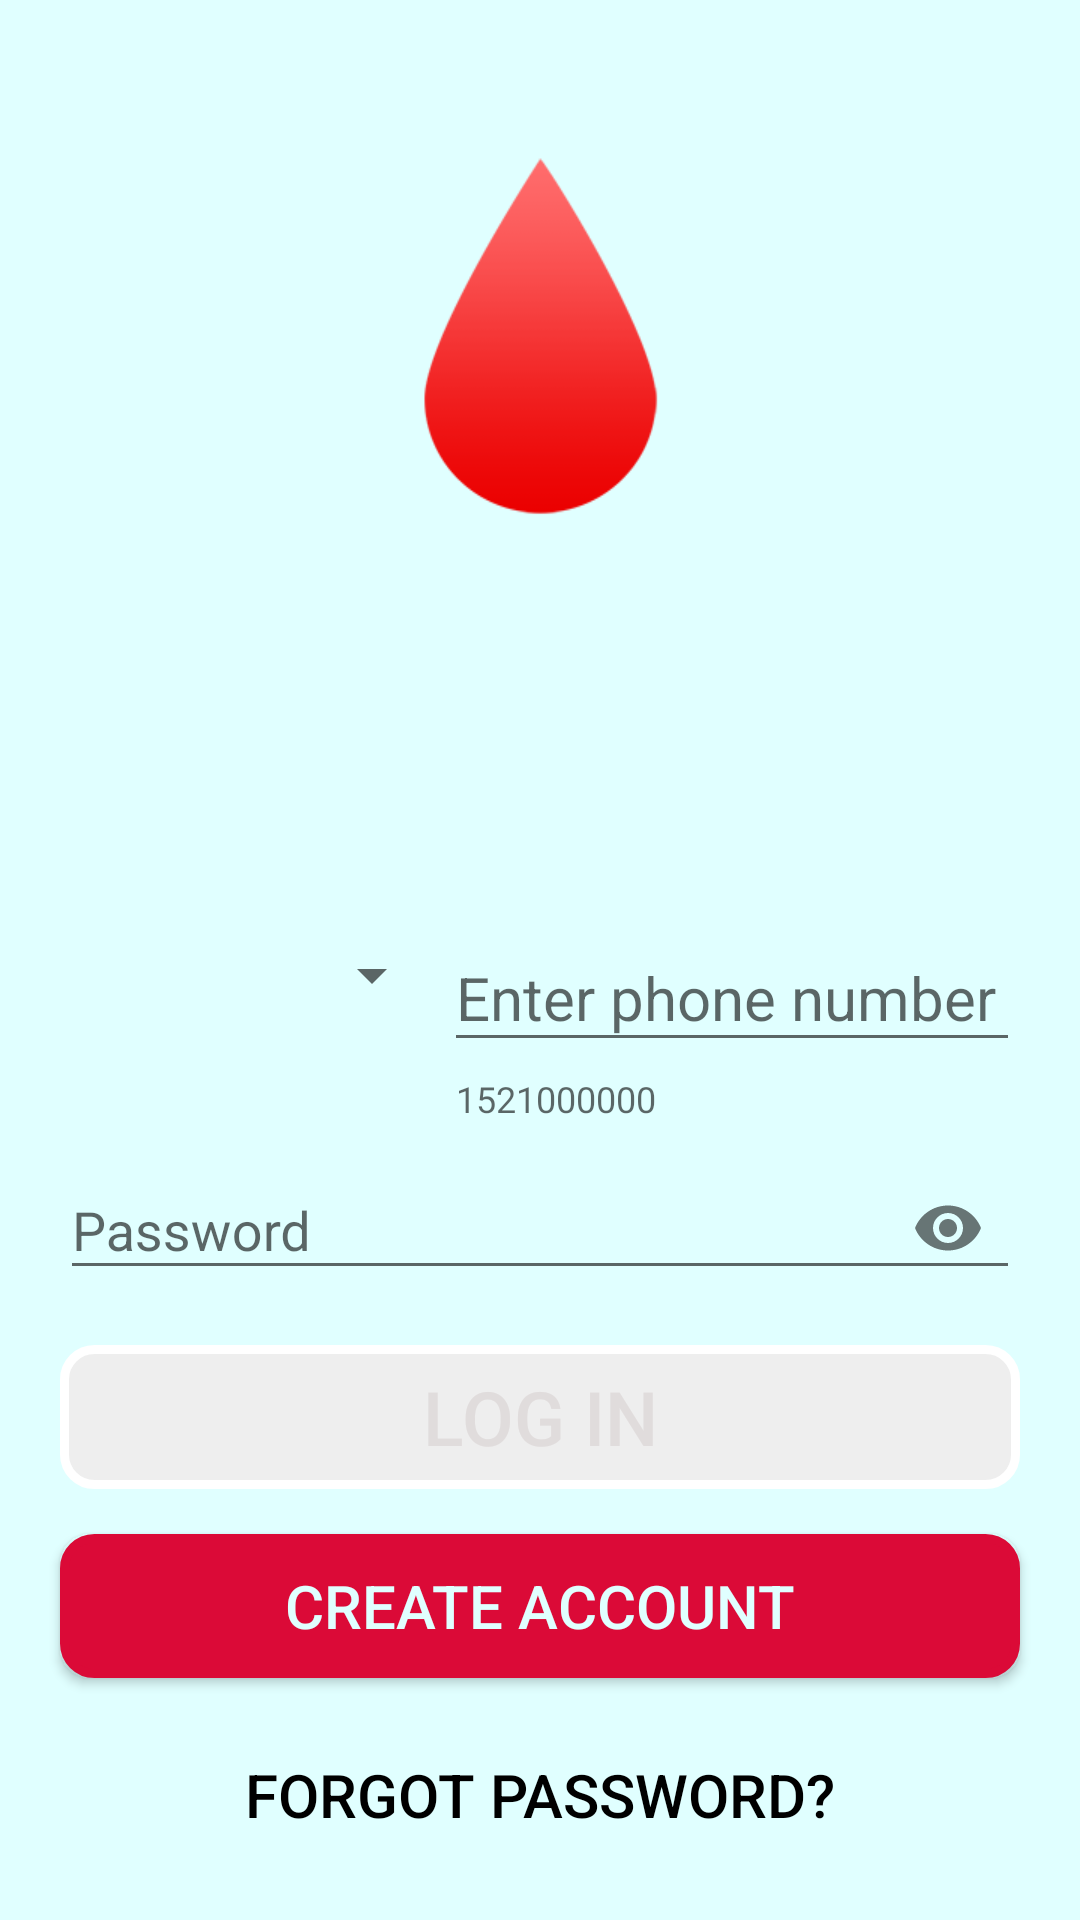

Icon bounding boxes for this 1080px x 1920px phone screenshot, format (x1, y1, x2, y2):
blooddrop: (424, 158, 658, 514)
